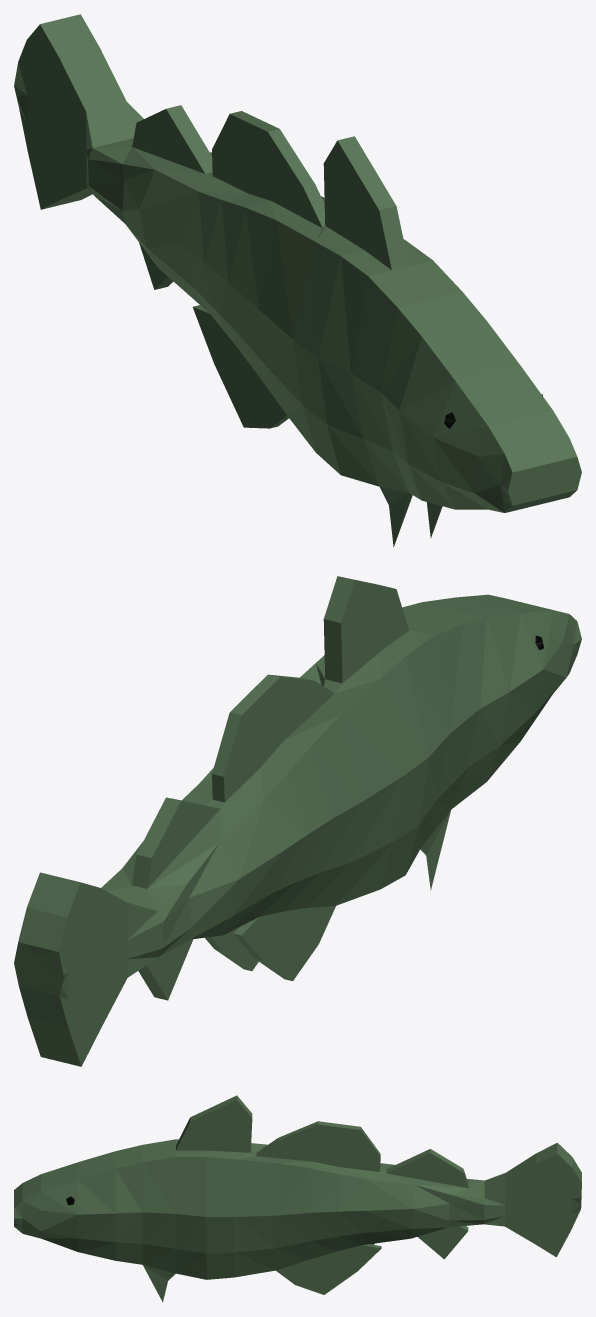
Rendered from cod.dae.
3 renders of one model, top to bottom at view 1: azimuth 30°, elevation 25°; view 2: azimuth 150°, elevation 25°; view 3: azimuth 270°, elevation 25°, orthographic. The views are drawn at different scales.
Parts seen in each view (by area): view 1: cod; view 2: cod; view 3: cod.
Boxes of the visible parts, bbox=[...] form: cod: bbox=[14, 14, 581, 546]; cod: bbox=[14, 576, 581, 1066]; cod: bbox=[14, 1095, 581, 1302].
Size of what is drawn, in the model's own units: 1.19 by 9.41 by 3.66.
